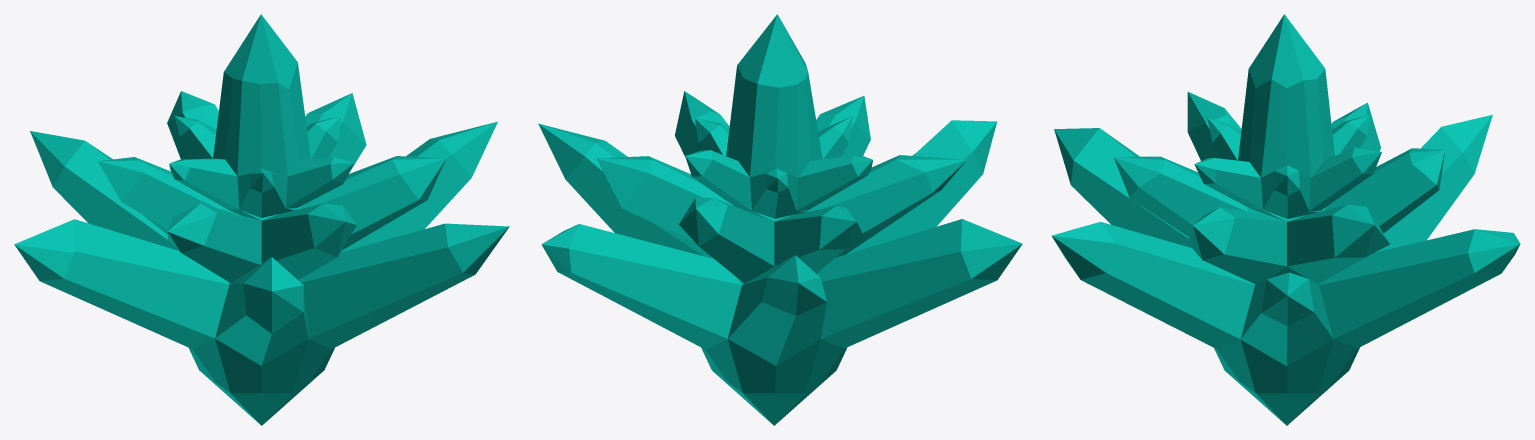
Rendered from 15_12_15_crystal-light_test.FBX.
The picture shows the model from 3 angles, left to right: view 1: azimuth 30°, elevation 25°; view 2: azimuth 150°, elevation 25°; view 3: azimuth 270°, elevation 25°; orthographic projection.
Parts seen in each view (by area): view 1: Sphere001; view 2: Sphere001; view 3: Sphere001.
Boxes of the visible parts, <box> form: Sphere001: <box>14,14,509,425</box>; Sphere001: <box>538,14,1022,425</box>; Sphere001: <box>1051,14,1520,425</box>.
Bounding box in the file's own units: 104 × 87.3 × 84.4.
